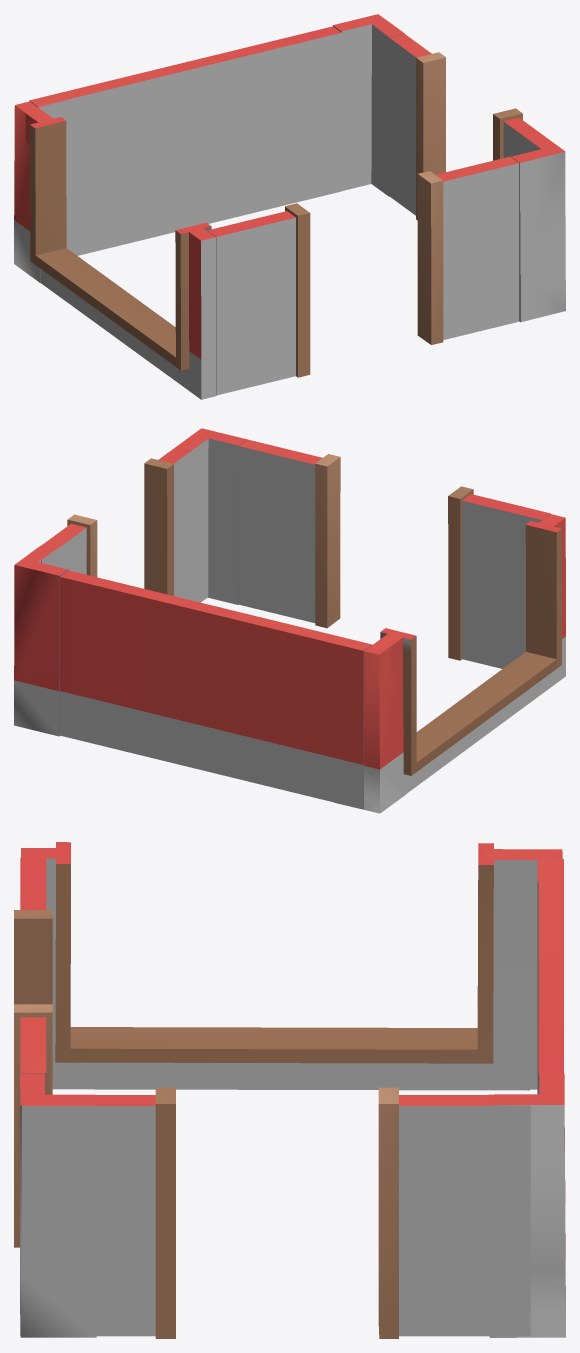
The model's file is DORMITORIO.fbx.
3 views of the same model, one above another, from view 1: azimuth 30°, elevation 25°; view 2: azimuth 150°, elevation 25°; view 3: azimuth 270°, elevation 25° (orthographic). The views are drawn at different scales.
Visible parts, largest first — view 1: paret_basica17, paret_puerta32, paret_con_ventana_grande16, paret_puerta39, paret_esquina_68, paret_esquina_61, paret_esquina29; view 2: paret_basica17, paret_puerta32, paret_con_ventana_grande16, paret_puerta39, paret_esquina_61, paret_esquina29, paret_esquina_68; view 3: paret_puerta39, paret_con_ventana_grande16, paret_esquina_61, paret_puerta32, paret_esquina_68, paret_esquina29, paret_basica17.
Boxes of the visible parts, x1,y1,x2,y2 form: paret_basica17: (29, 26, 342, 255); paret_puerta32: (207, 156, 519, 395); paret_con_ventana_grande16: (25, 113, 215, 399); paret_puerta39: (374, 27, 565, 220); paret_esquina_68: (511, 132, 565, 322); paret_esquina_61: (333, 14, 404, 196); paret_esquina29: (14, 100, 68, 282); paret_basica17: (60, 570, 372, 809); paret_puerta32: (239, 439, 550, 668); paret_con_ventana_grande16: (380, 514, 565, 793); paret_puerta39: (41, 429, 208, 602); paret_esquina_61: (14, 546, 68, 736); paret_esquina29: (336, 632, 406, 813); paret_esquina_68: (176, 428, 247, 604); paret_puerta39: (22, 1087, 530, 1338); paret_con_ventana_grande16: (21, 842, 529, 1090); paret_esquina_61: (488, 1072, 565, 1337); paret_puerta32: (14, 858, 52, 1247); paret_esquina_68: (20, 1073, 96, 1337); paret_esquina29: (486, 849, 562, 1094); paret_basica17: (538, 859, 563, 1093).
Size of the model in its own units: 821 by 340 by 718.
